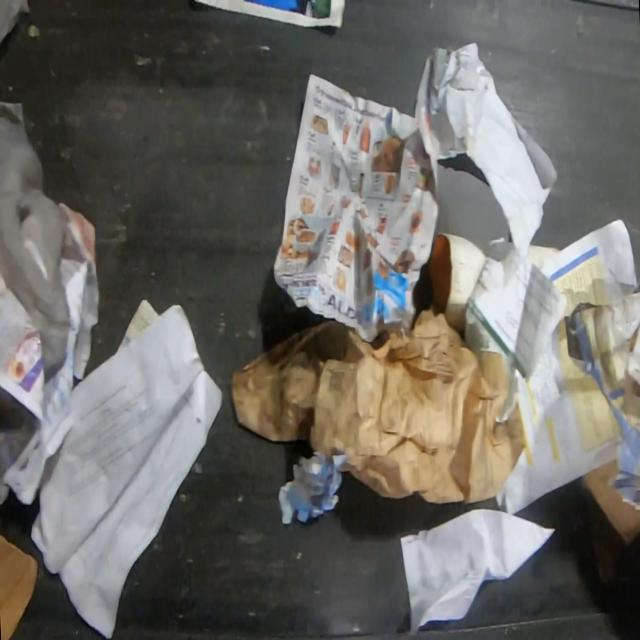cardboard: (428, 233, 488, 333), (580, 456, 640, 545), (0, 535, 39, 638)
soft_plastic: (0, 100, 68, 384)
